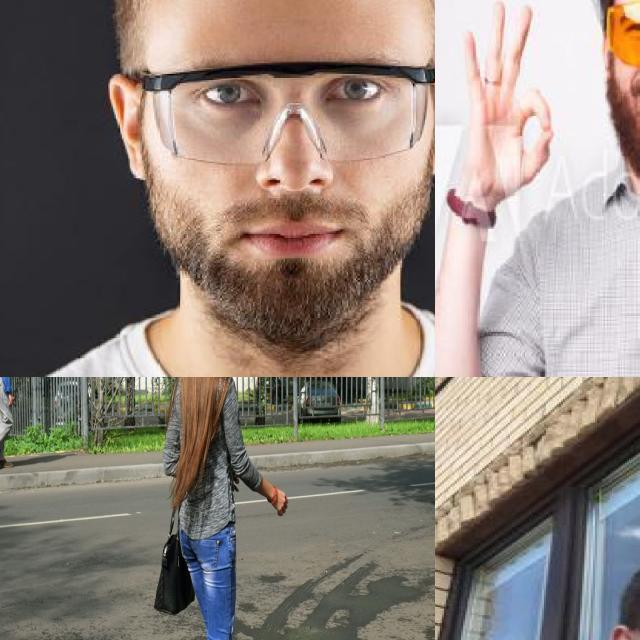No_Ear-Protection: (101, 65, 152, 190), (419, 56, 435, 187), (603, 623, 640, 640)
face_nomask: (180, 58, 395, 265), (609, 9, 640, 123)
glasses: (131, 58, 435, 167), (600, 0, 640, 66)
hand_noglove: (450, 0, 556, 202)
person: (0, 0, 435, 377), (447, 0, 640, 377)
